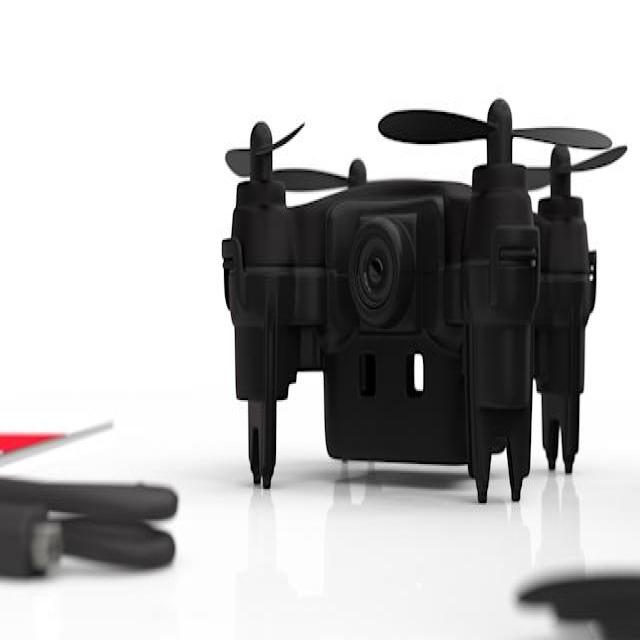drones: (211, 80, 626, 527)
